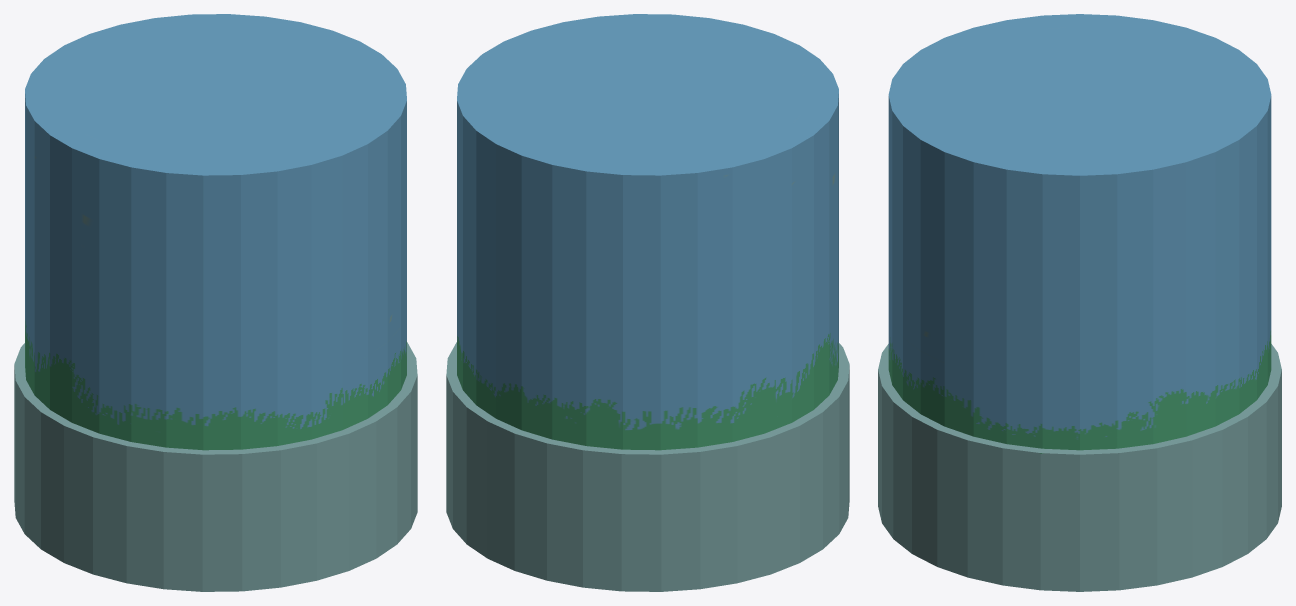
File: O2-plant.glb
The picture shows the model from 3 angles, left to right: view 1: azimuth 30°, elevation 25°; view 2: azimuth 150°, elevation 25°; view 3: azimuth 270°, elevation 25°; orthographic projection.
Parts seen in each view (by area): view 1: Cylinder; view 2: Cylinder; view 3: Cylinder.
Boxes of the visible parts, x1,y1,x2,y2 form: Cylinder: (14,14,417,591); Cylinder: (446,14,849,591); Cylinder: (878,14,1281,591).
Bounding box in the file's own units: 8 × 9 × 8.
1 material, 1 textured.
